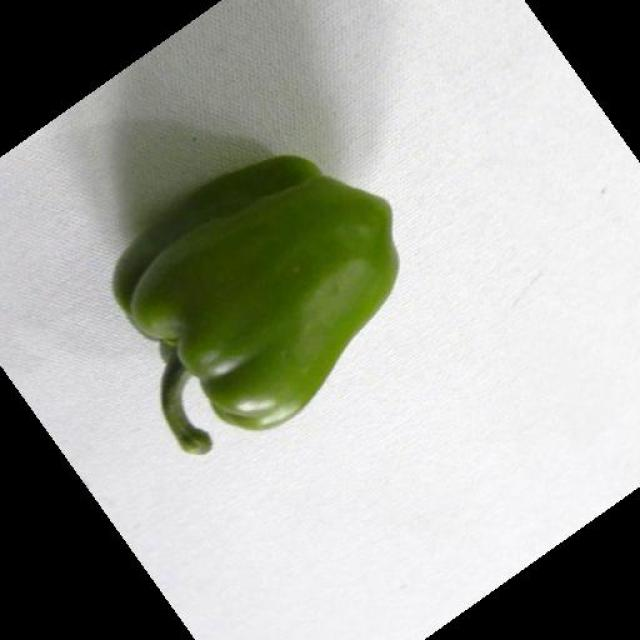Fresh_Capsicum: (127, 160, 379, 430)
